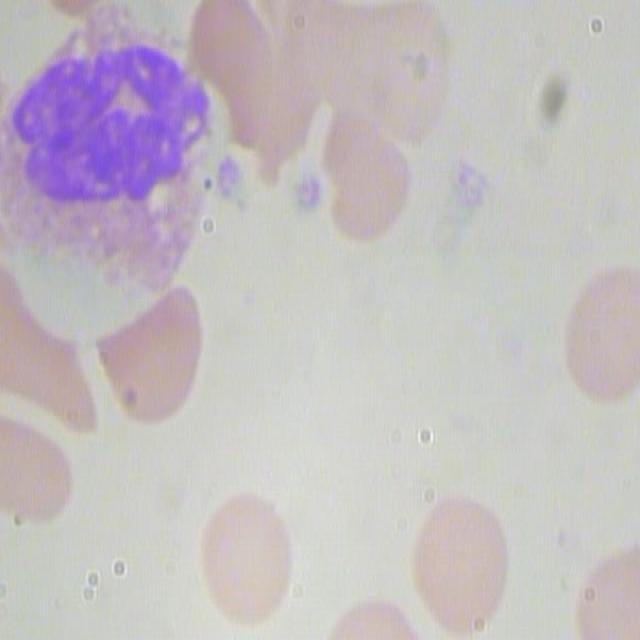RBC: (95, 278, 203, 435), (408, 499, 512, 634), (201, 493, 294, 617), (323, 107, 409, 239), (568, 270, 639, 412)
WBC: (13, 3, 214, 280)
